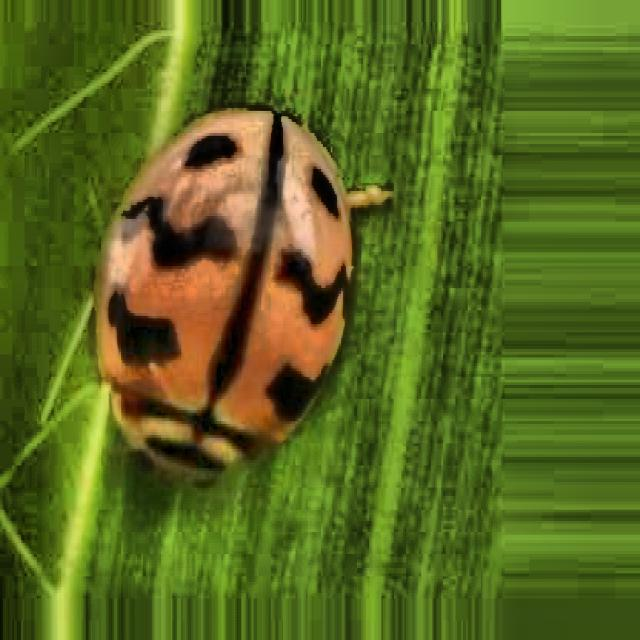Asian-Lady-beetle: (53, 33, 430, 640)
